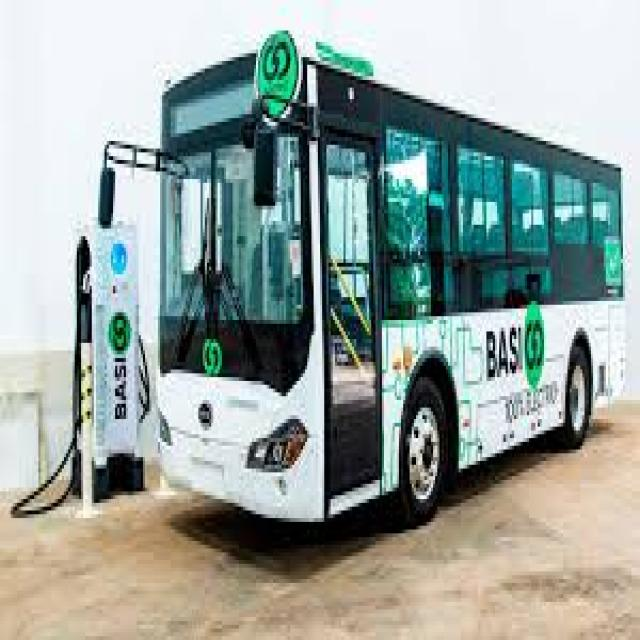bus: (98, 10, 637, 552)
